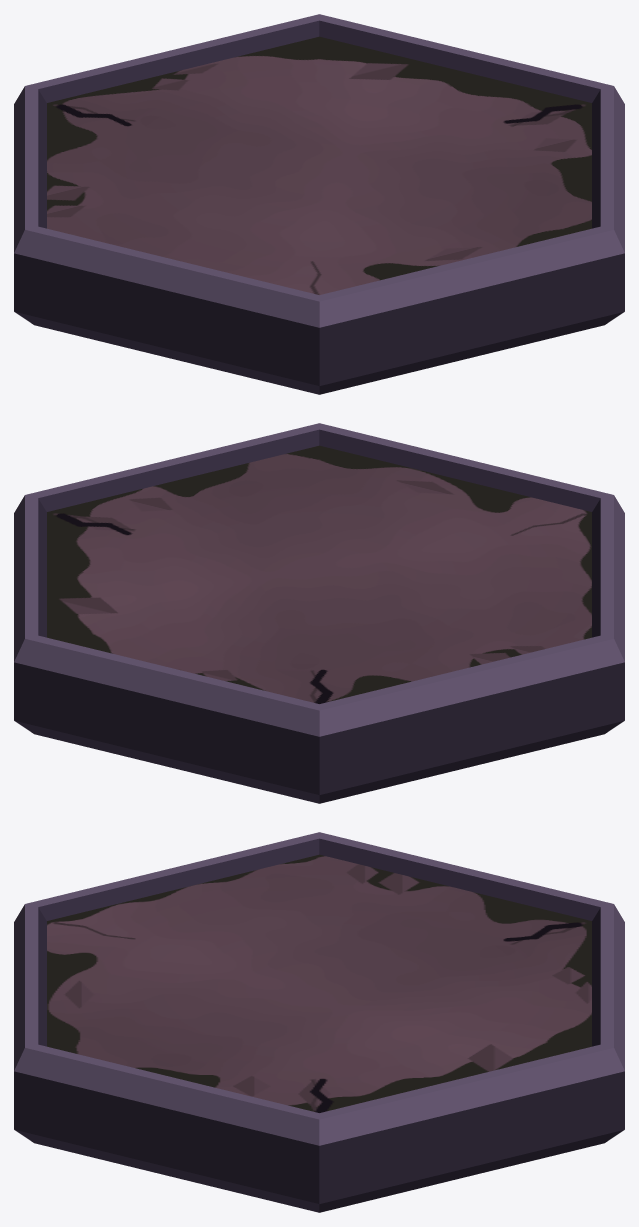
File: Hex_Terra_Corrompida.glb
3 views of the same model, one above another, from view 1: azimuth 30°, elevation 25°; view 2: azimuth 150°, elevation 25°; view 3: azimuth 270°, elevation 25° (orthographic).
Parts seen in each view (by area): view 1: Hex_template_0; view 2: Hex_template_0; view 3: Hex_template_0.
Part boxes in pixels (x1,y1,x2,y2): Hex_template_0: [14, 14, 624, 394]; Hex_template_0: [14, 423, 624, 803]; Hex_template_0: [14, 832, 624, 1212].
Size of the model in its own units: 1.9 by 0.29 by 1.64.
3 materials, 1 textured.
